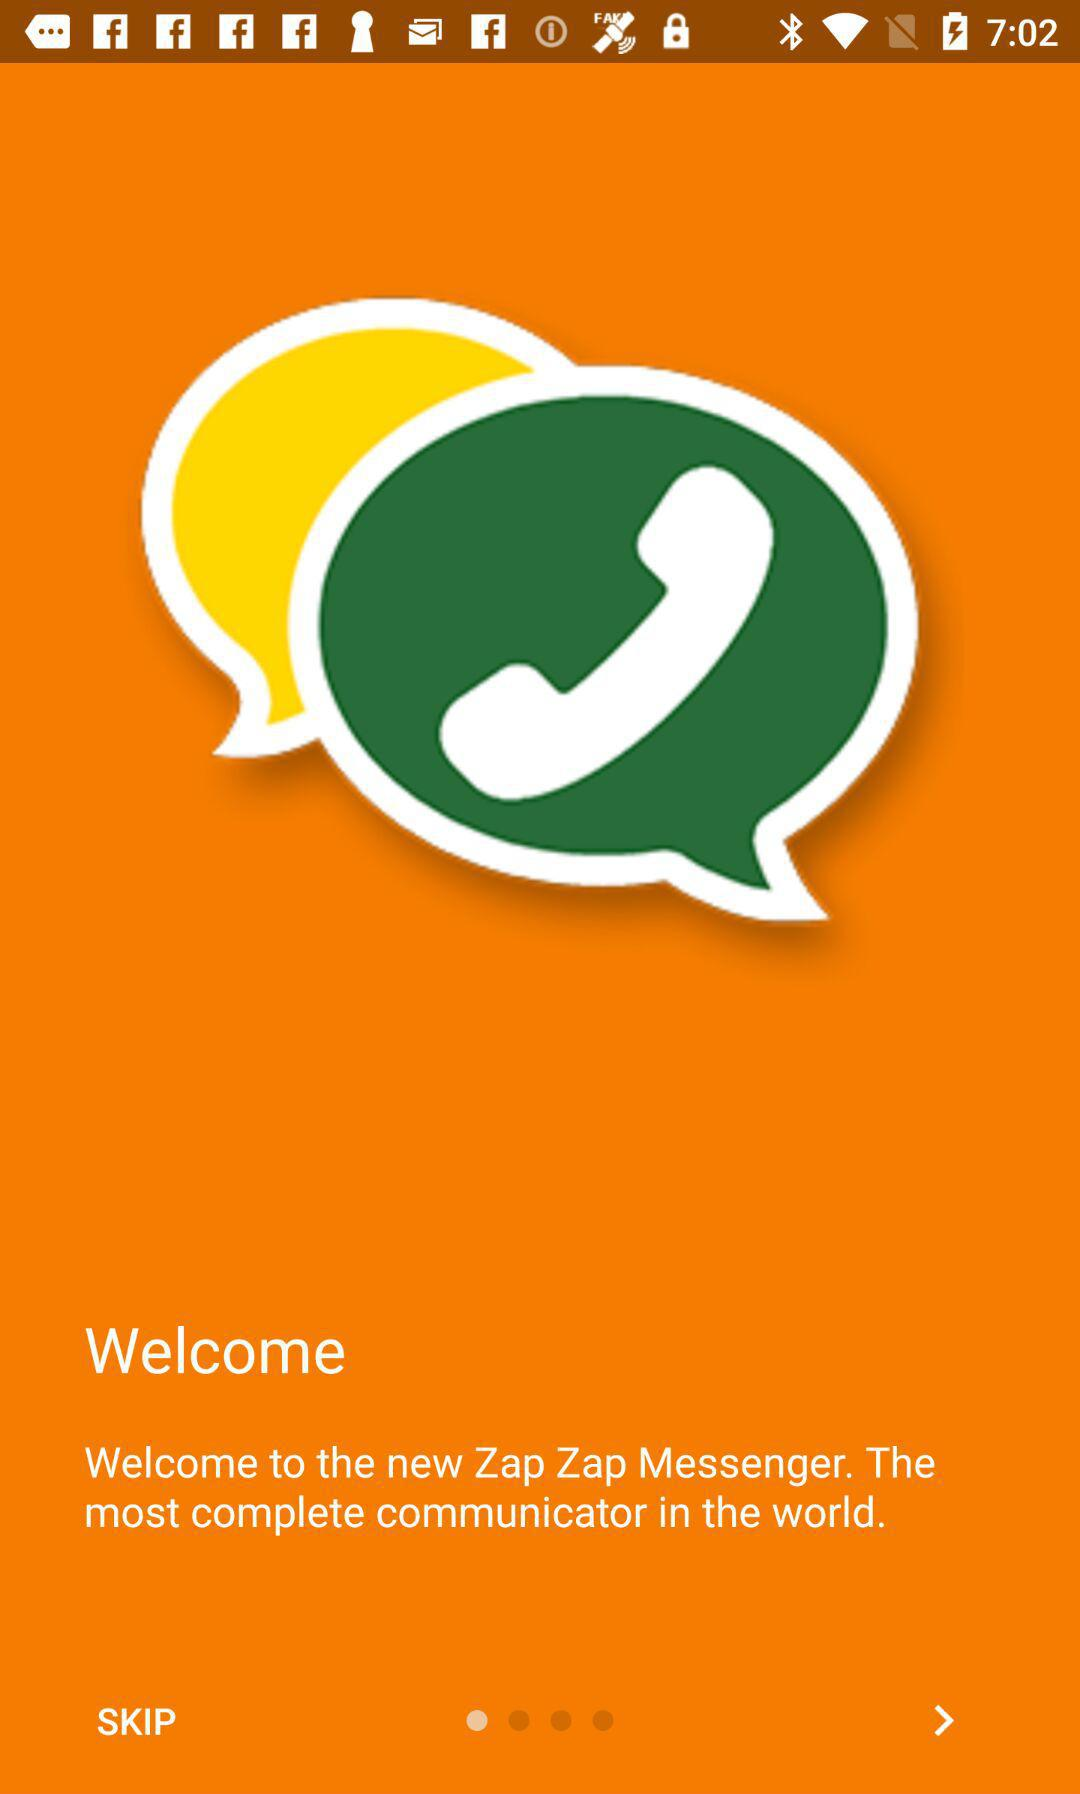Icon: (933, 1704, 954, 1738)
Image: (140, 296, 922, 925)
PageIndicator: (465, 1708, 616, 1734)
Text: (85, 1444, 937, 1538), (85, 1325, 347, 1376), (97, 1706, 177, 1738)
UpperTaskBar: (1, 1, 1080, 64)
